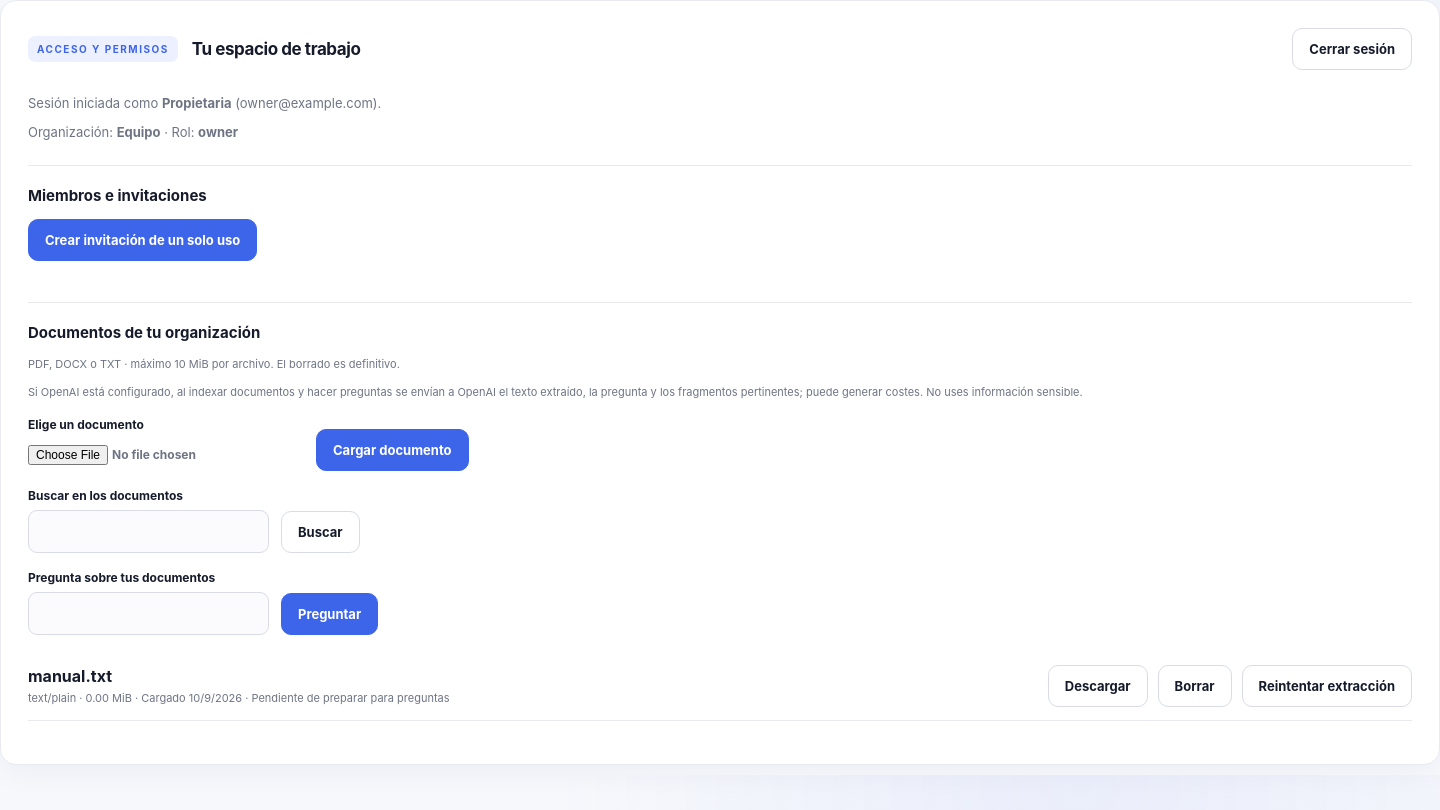
Test: AuthPanel › asks before permanently deleting a document
Click the button "Borrar": (1195, 686) [1158, 665, 1232, 707]
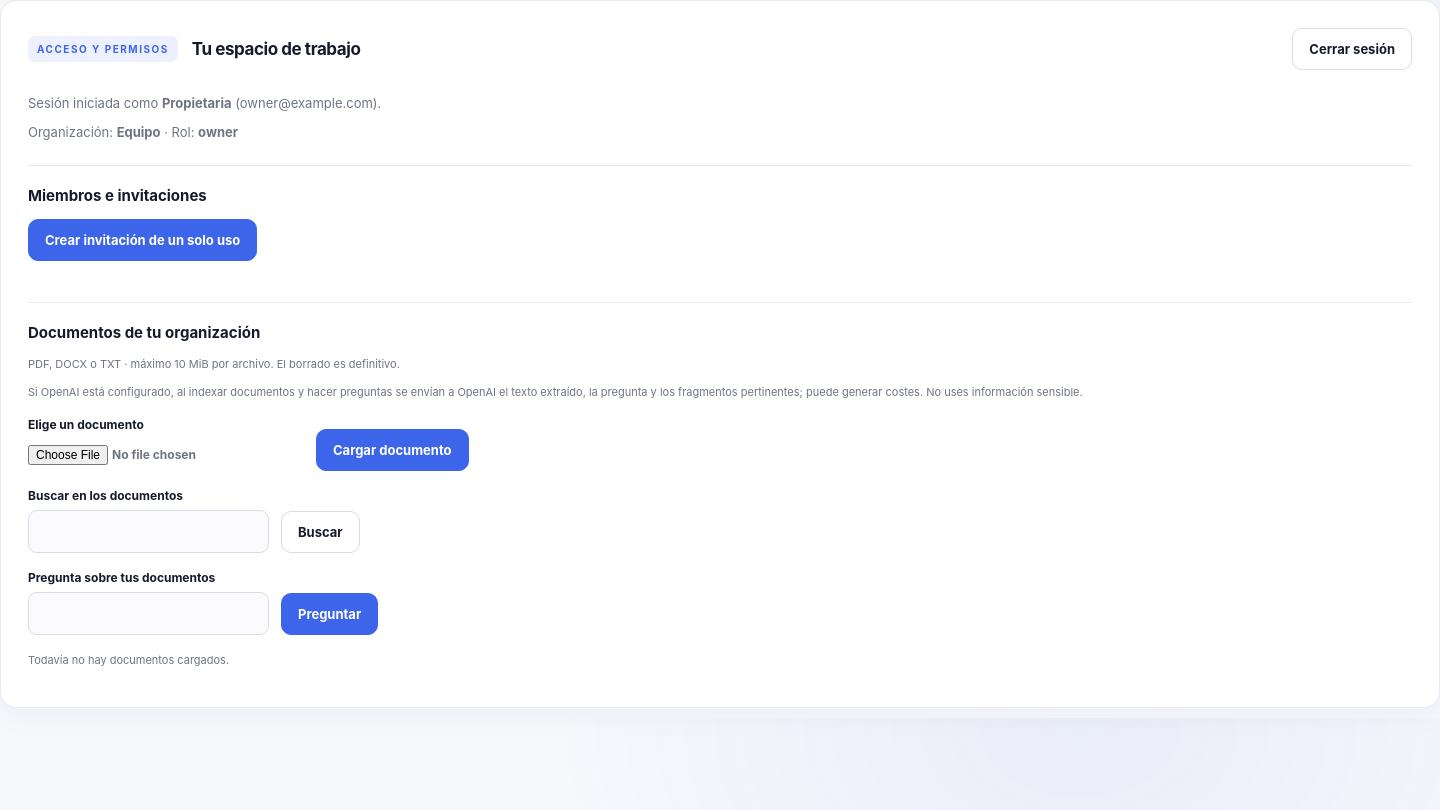
Now the text "Todavía no hay documentos cargados." is shown, box [28, 653, 229, 667]
